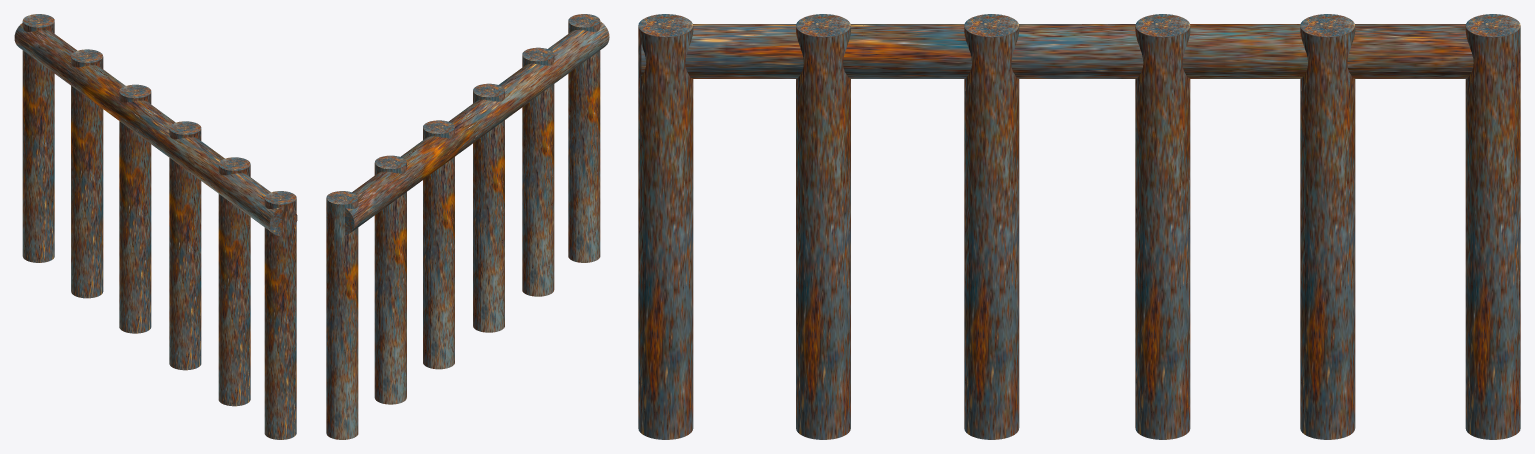
File: barierki_v1.fbx
3 renders of one model, left to right at view 1: azimuth 30°, elevation 25°; view 2: azimuth 150°, elevation 25°; view 3: azimuth 270°, elevation 25°, orthographic. The views are drawn at different scales.
Visible parts, largest first — view 1: Cylinder.010; view 2: Cylinder.010; view 3: Cylinder.010.
Boxes of the visible parts, bbox=[...] form: Cylinder.010: bbox=[14, 14, 297, 439]; Cylinder.010: bbox=[326, 14, 609, 439]; Cylinder.010: bbox=[638, 14, 1520, 439].
Bounding box in the file's own units: 14.24 × 100 × 199.
